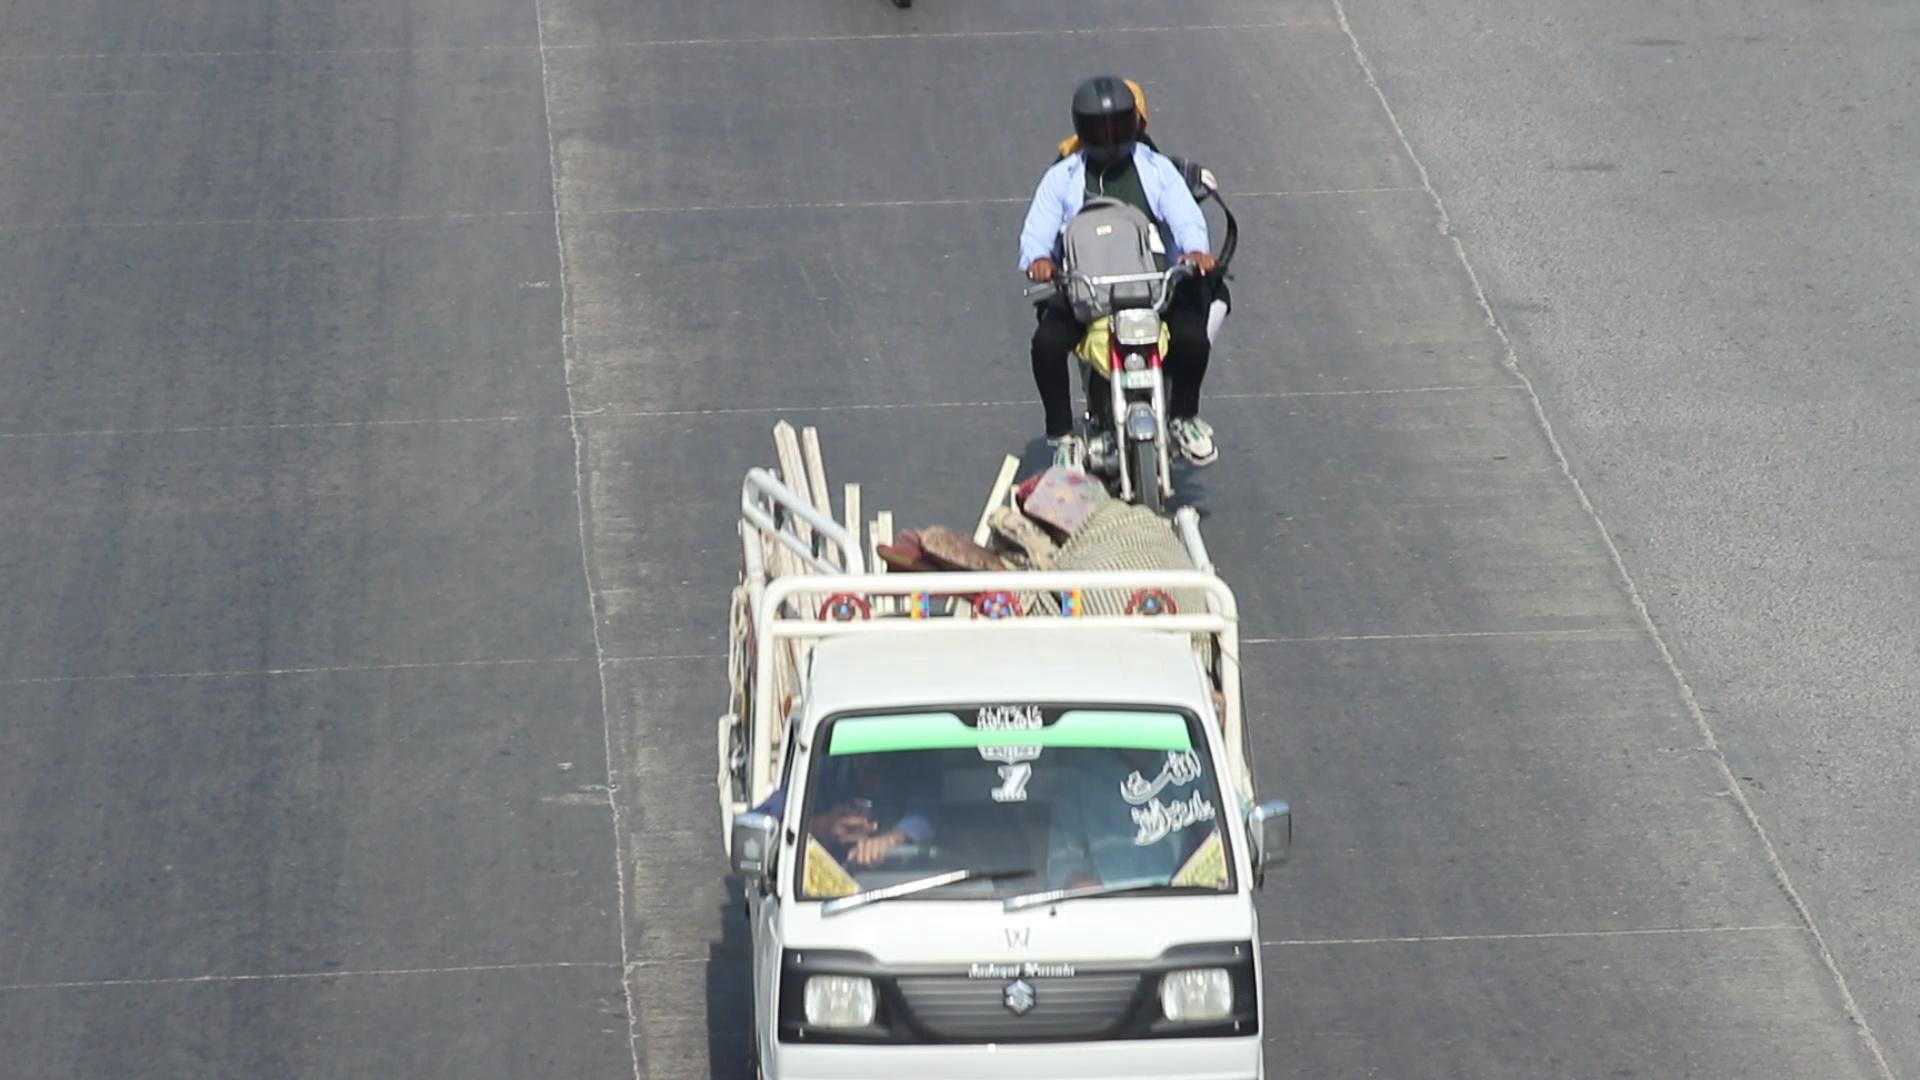windshield: (785, 694, 1250, 930)
